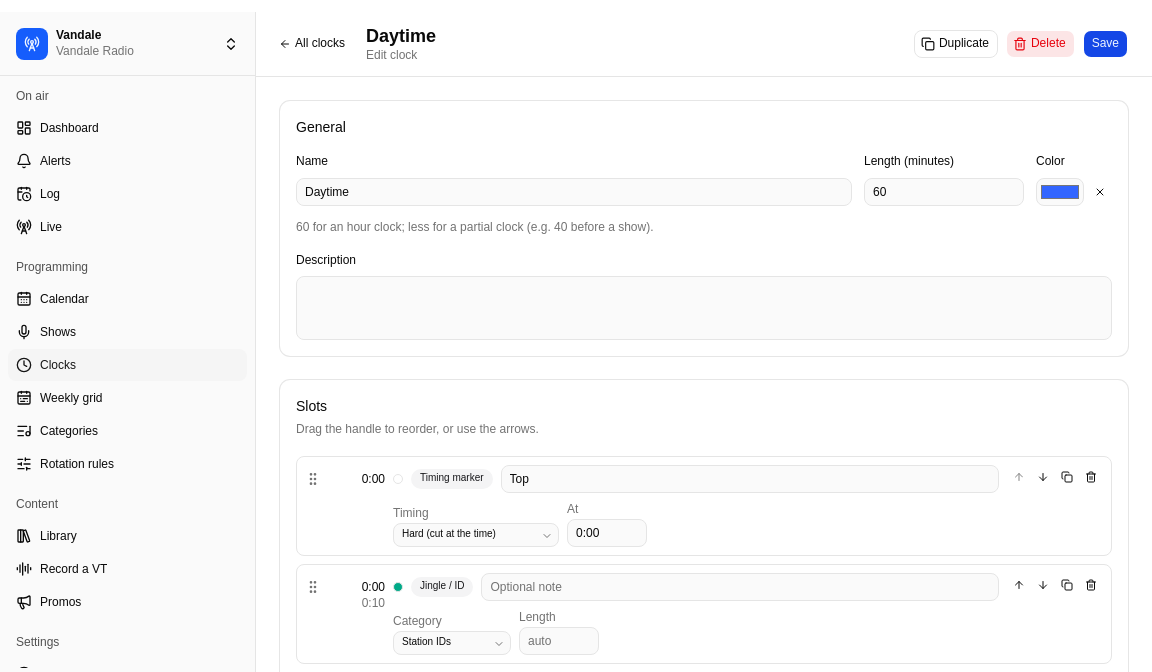
it: clocks › duplicates the clock from the editor
The image size is (1152, 672).
Click the button "Duplicate": x=956, y=44 x1=914 y1=30 x2=998 y2=58
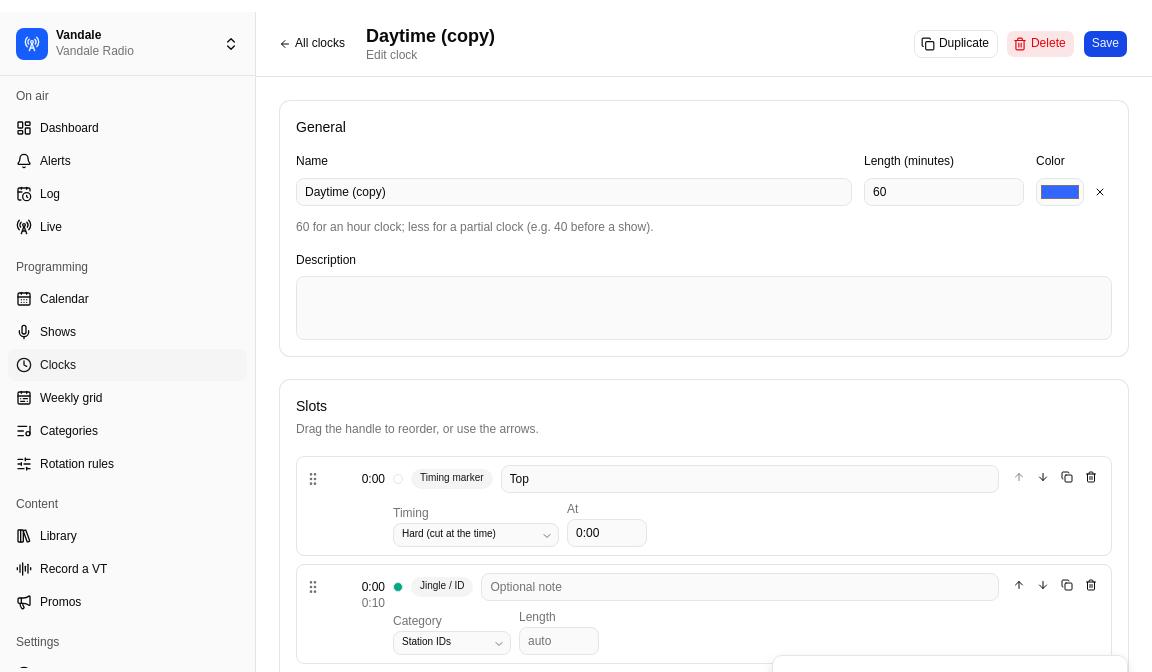
Result: the field showing "Daytime (copy)" is shown at x1=296 y1=178 x2=852 y2=206
